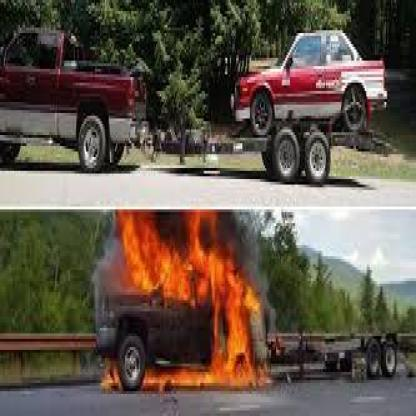fire: (113, 215, 286, 390)
